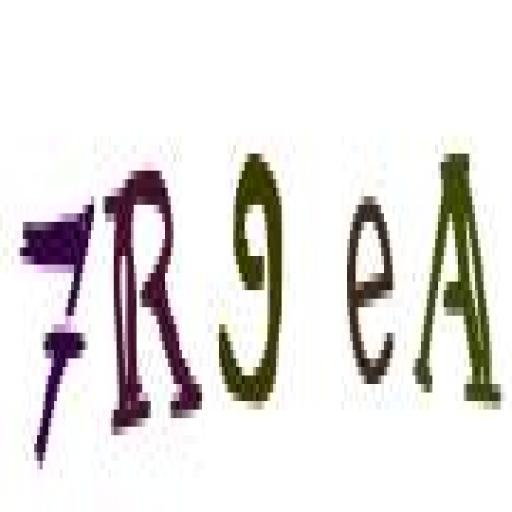7: (13, 186, 98, 476)
9: (214, 136, 288, 426)
A: (410, 137, 502, 429)
R: (101, 152, 202, 444)
e: (343, 182, 401, 398)
